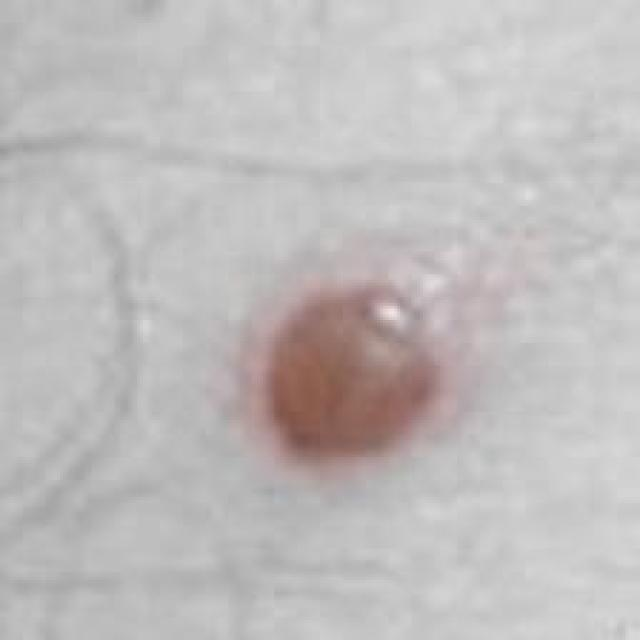monkeypox: (181, 160, 518, 520)
